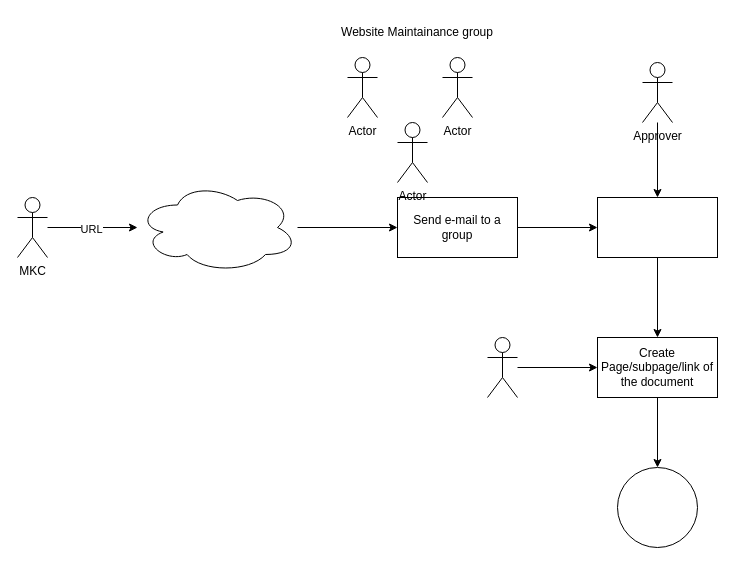
This 735x565 diagram has some shape labels left out. The shapes that lost their labels are listed below. From the top down, each one's centre as x and y in pixels, then its label:
(217,227): S3 Kandra Storage
(657,227): Approval mail with head/sub info
(502,367): Developer
(657,507): END
